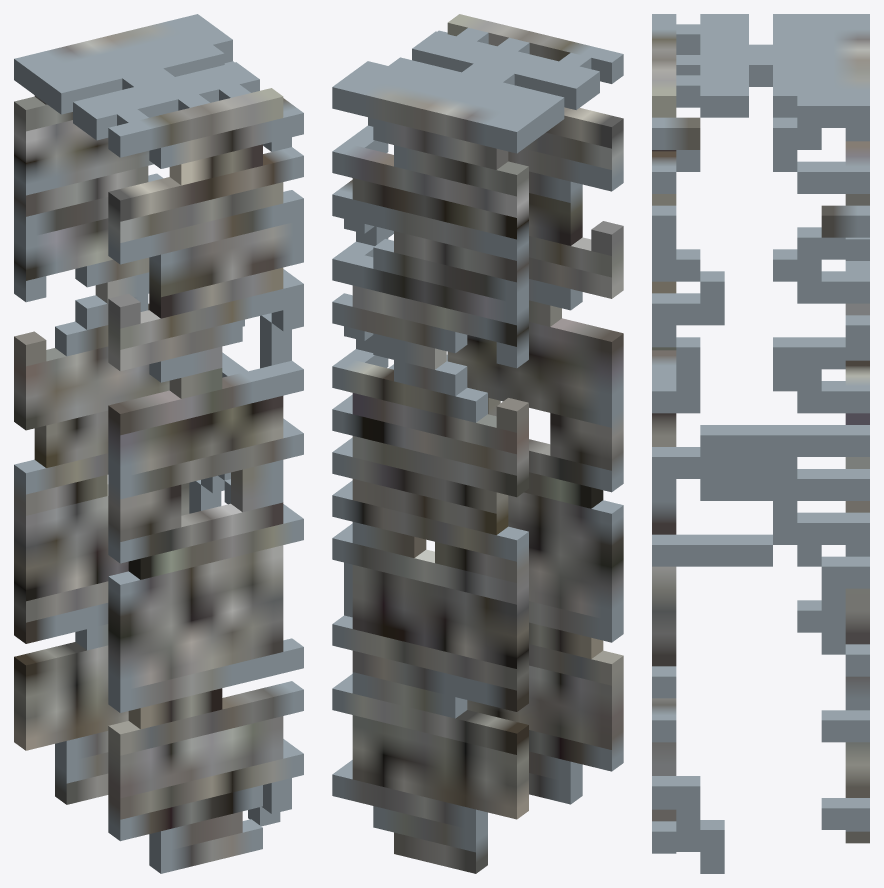
File: large_wall.fbx
The picture shows the model from 3 angles, left to right: view 1: azimuth 30°, elevation 25°; view 2: azimuth 150°, elevation 25°; view 3: azimuth 270°, elevation 25°; orthographic projection. The views are drawn at different scales.
Parts seen in each view (by area): view 1: Voxelized_Voxelizer_part_1; view 2: Voxelized_Voxelizer_part_1; view 3: Voxelized_Voxelizer_part_1.
Boxes of the visible parts, bbox=[...] form: Voxelized_Voxelizer_part_1: bbox=[14, 14, 303, 873]; Voxelized_Voxelizer_part_1: bbox=[332, 14, 623, 873]; Voxelized_Voxelizer_part_1: bbox=[652, 14, 869, 873].
Bounding box in the file's own units: 9 × 35 × 9.
1 material, 1 textured.
